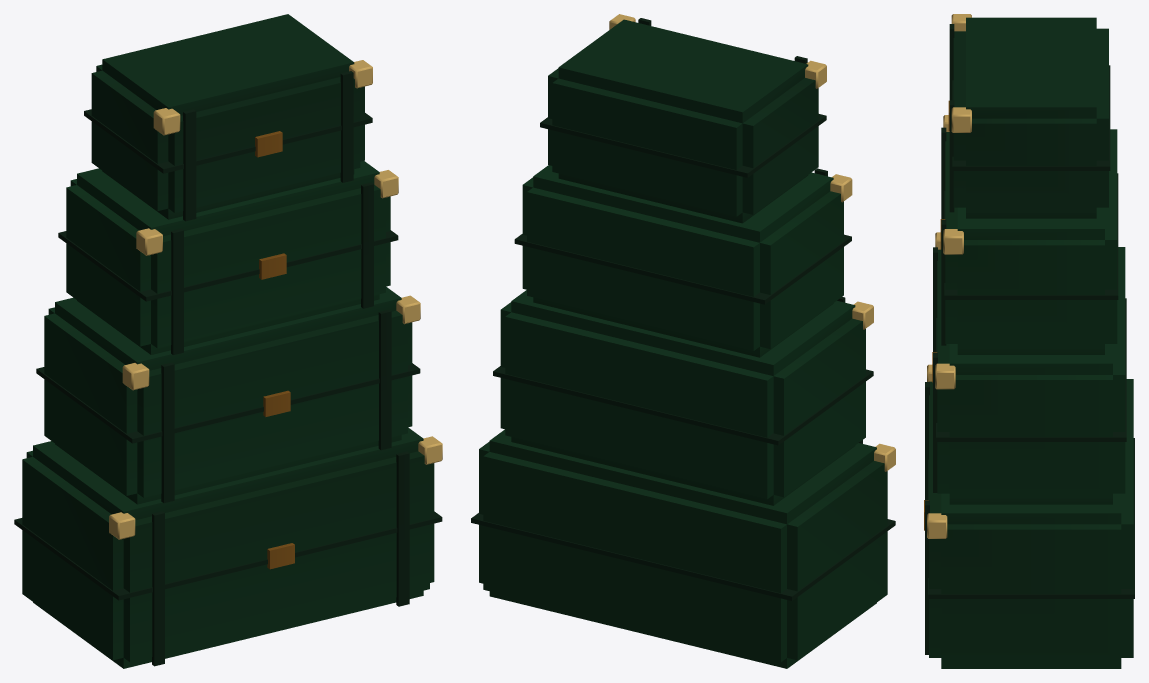
Rendered from mall-trunk-tower.glb.
3 views of the same model, side by side, from view 1: azimuth 30°, elevation 25°; view 2: azimuth 150°, elevation 25°; view 3: azimuth 270°, elevation 25° (orthographic).
Visible parts, largest first — view 1: trunks__leather, fittings__brass; view 2: trunks__leather, fittings__brass; view 3: trunks__leather, fittings__brass.
Boxes of the visible parts, x1,y1,x2,y2 form: trunks__leather: (14,14,442,668); fittings__brass: (109,60,442,539); trunks__leather: (471,18,895,668); fittings__brass: (609,14,895,471); trunks__leather: (924,17,1134,668); fittings__brass: (927,14,971,538).
Bounding box in the file's own units: 0.91 × 1.44 × 0.515.
